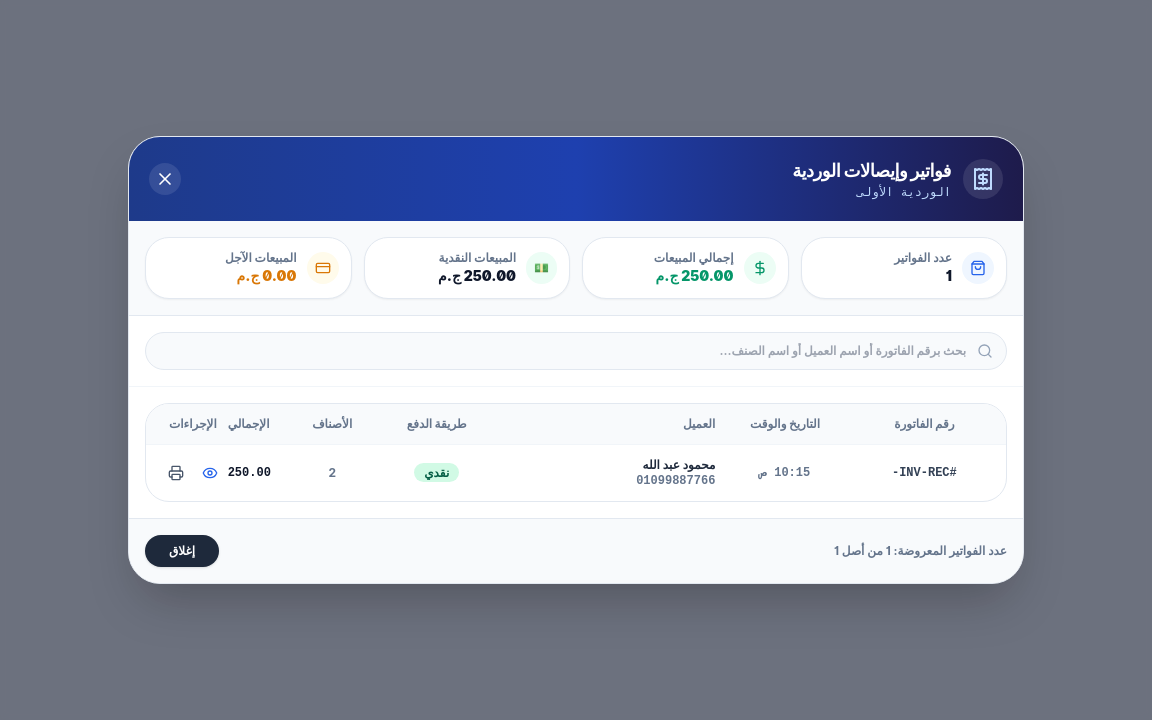
Test: Comprehensive UI Flow Regression Suite for all Added Features › 3. Shift Receipts Modal & Report UI Flow (فواتير الوردية والتقرير) › searches and opens receipt details in ShiftReceiptsModal
Expected: the heading "فواتير وإيصالات الوردية" is shown, [792,157,951,185]
Expected: the text "عدد الفواتير" is shown, [894,250,952,266]
Search filter
Type "محمود" into the field with placeholder "بحث برقم الفاتورة أو اسم العميل أو اسم الصنف...".
click(576, 351); type("محمود")  # box [145,332,1007,370]
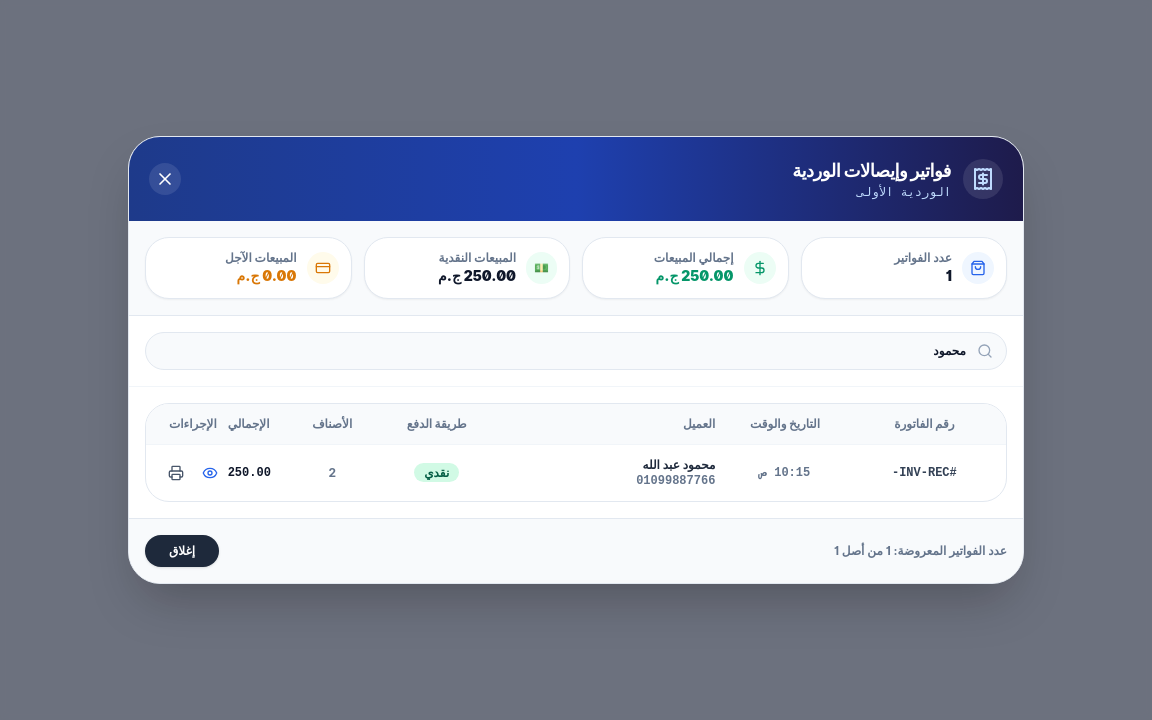
Expected: the text "محمود عبد الله" is shown, [642,457,715,472]
Open Receipt Details
Click the button titled "عرض تفاصيل الفاتورة".
click(210, 473)  # box [196,459,224,487]
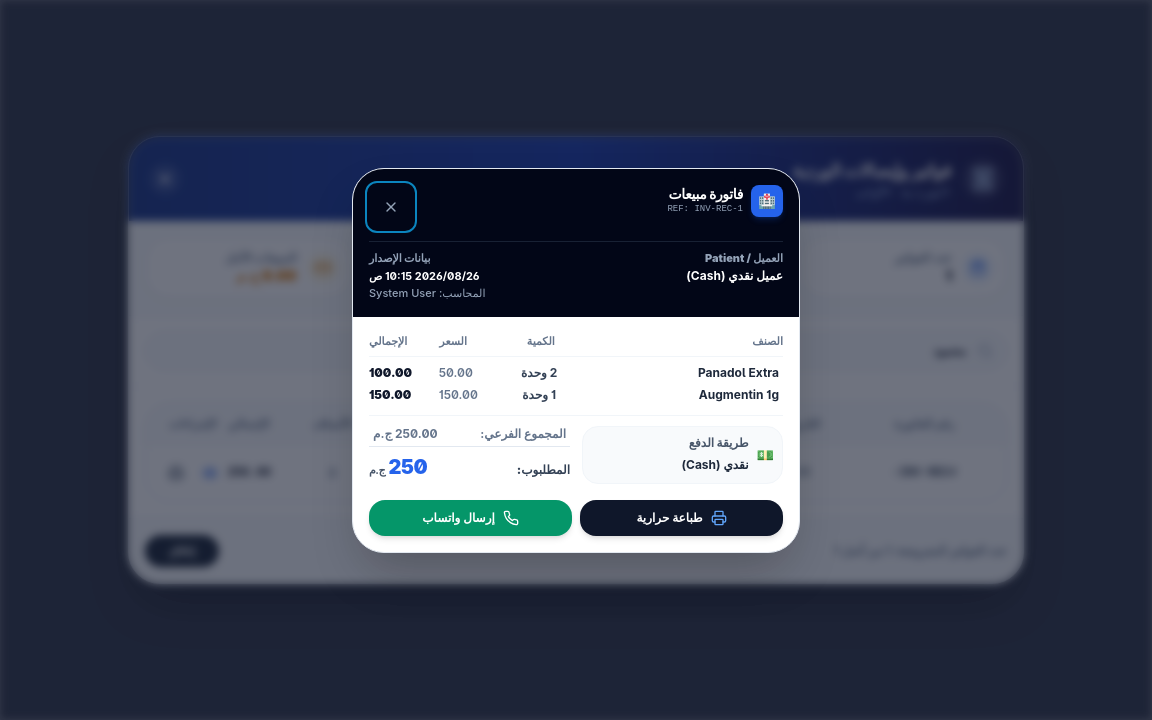
Result: the text "Panadol Extra" is shown at [698,364,779,380]
Result: the text "Augmentin 1g" is shown at [699,386,779,402]
